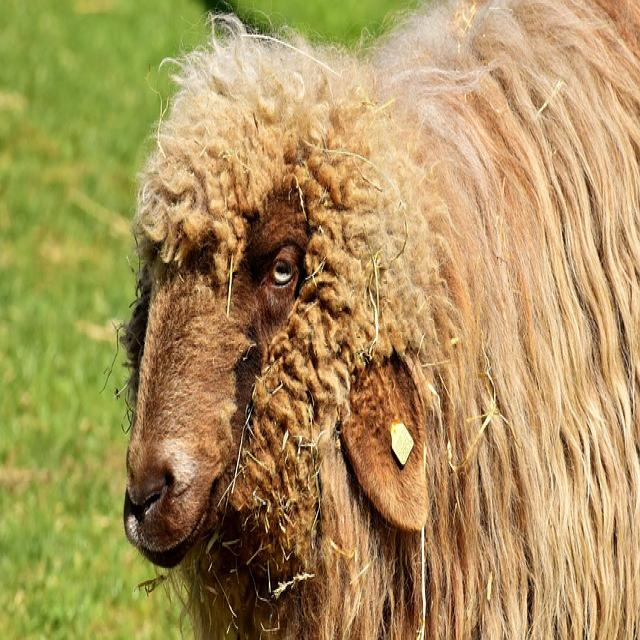sheep: (118, 0, 639, 638)
